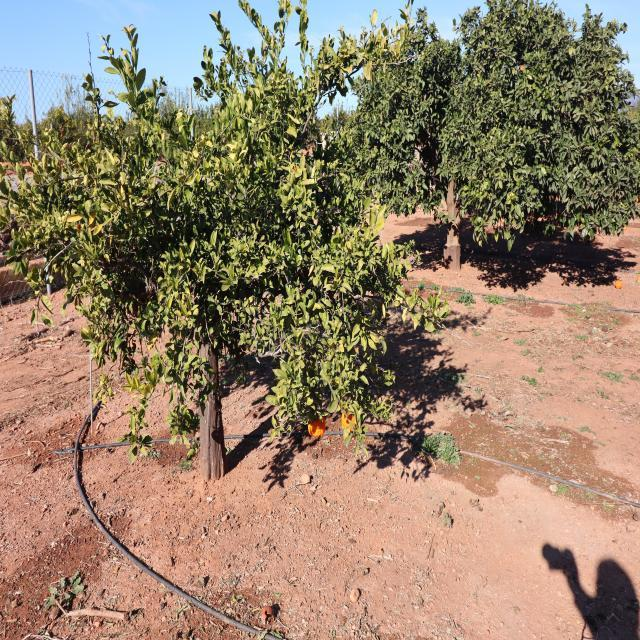Jeruk Sudah Matang: (308, 418, 326, 437), (342, 410, 360, 428)
